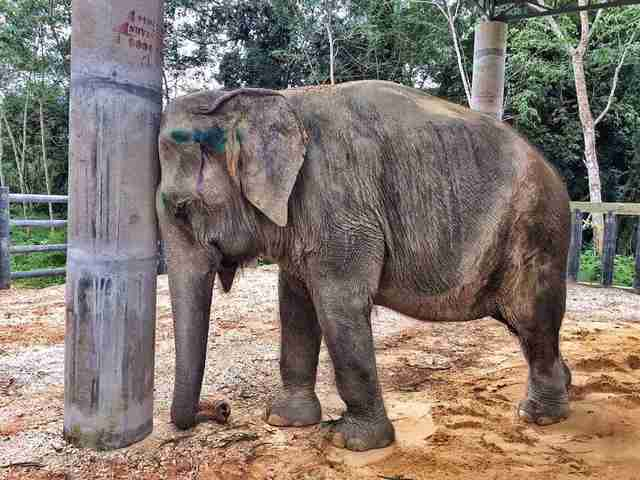elephant: (154, 76, 587, 451)
